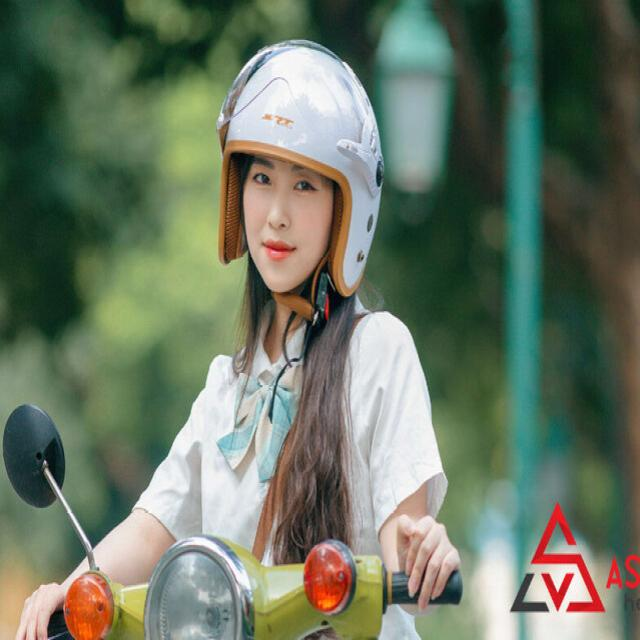helmet: (217, 39, 385, 298)
